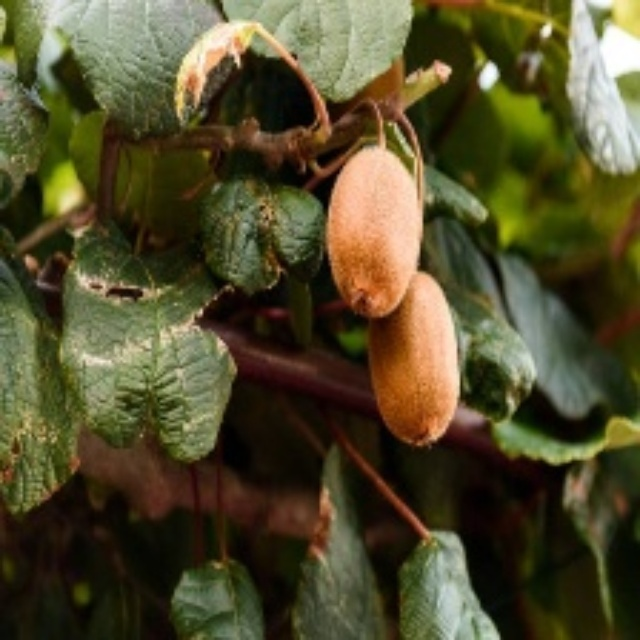kiwi: (321, 141, 428, 320), (375, 275, 470, 451)
